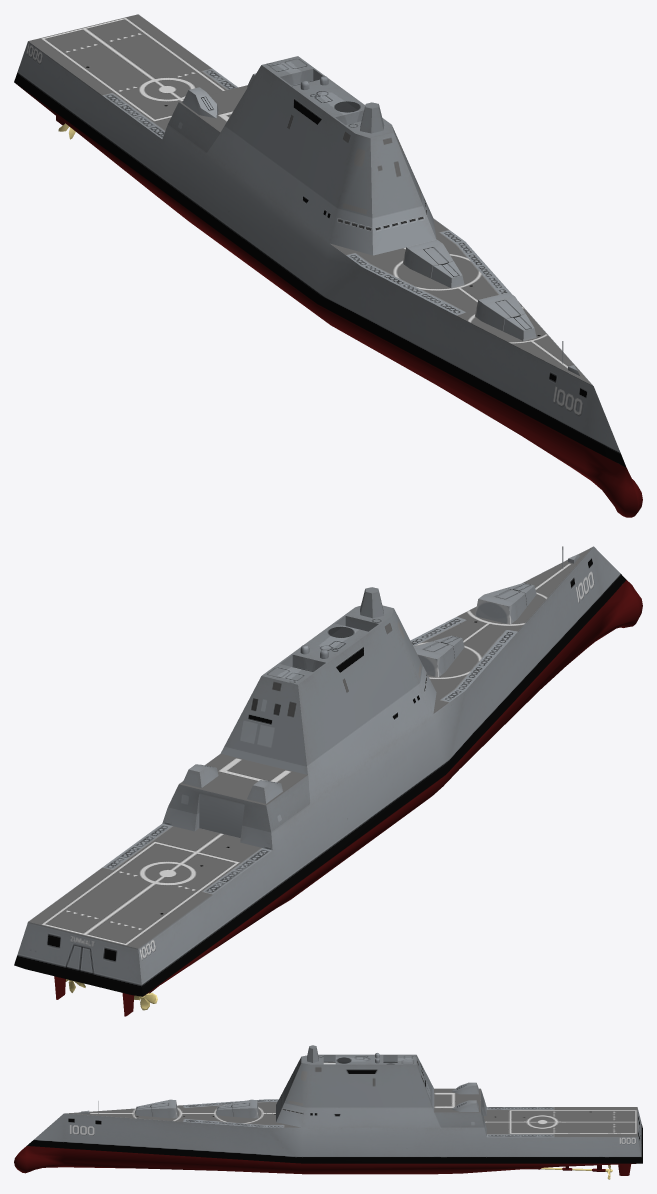
The model's file is blurudestroyer1.glb.
3 views of the same model, one above another, from view 1: azimuth 30°, elevation 25°; view 2: azimuth 150°, elevation 25°; view 3: azimuth 270°, elevation 25° (orthographic). The views are drawn at different scales.
Visible parts, largest first — view 1: Hull; view 2: Hull; view 3: Hull.
Boxes of the visible parts, x1,y1,x2,y2 form: Hull: (14,14,642,517); Hull: (14,546,642,1016); Hull: (14,1045,642,1179).
Bounding box in the file's own units: 3.52 × 5.84 × 26.48.
1 material, 1 textured.
